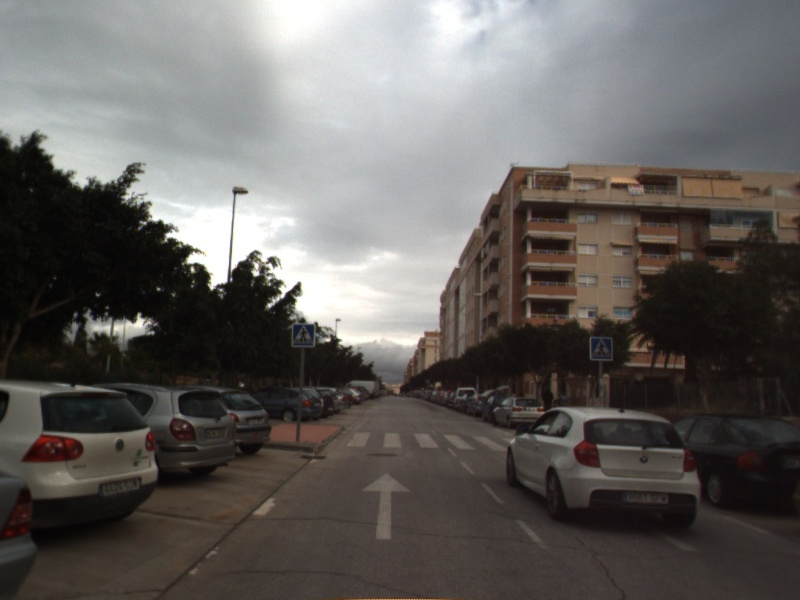STRAIGHT: (359, 471, 413, 541)
